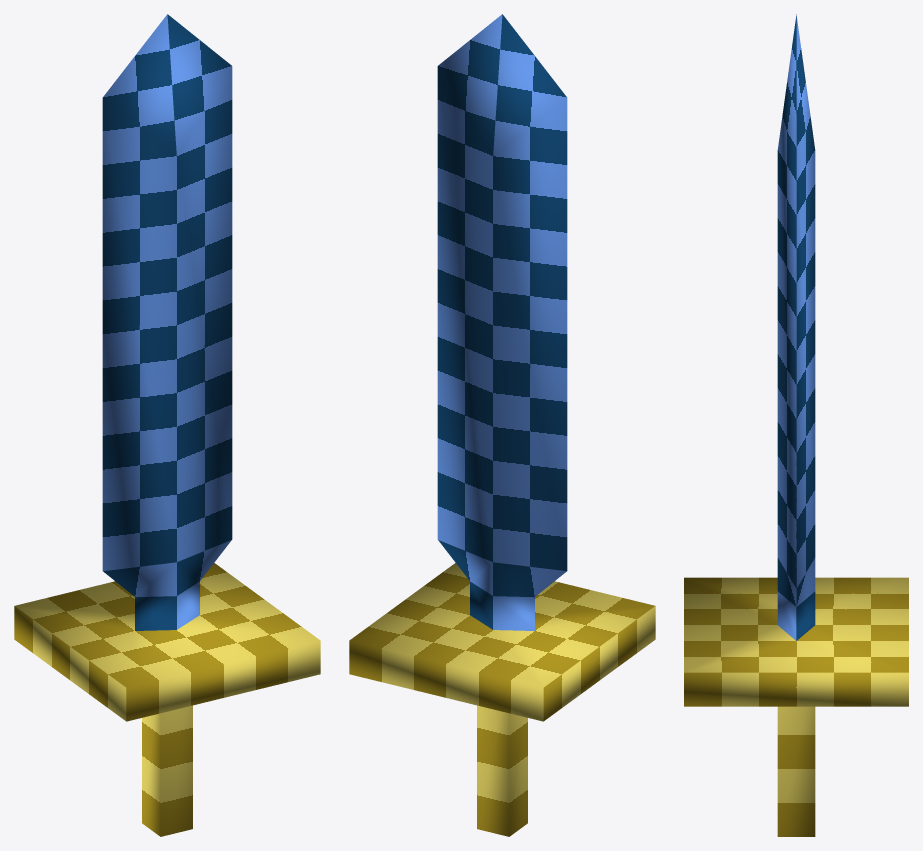
File: sword.fbx
The picture shows the model from 3 angles, left to right: view 1: azimuth 30°, elevation 25°; view 2: azimuth 150°, elevation 25°; view 3: azimuth 270°, elevation 25°; orthographic projection.
Parts seen in each view (by area): view 1: Cube; view 2: Cube; view 3: Cube.
Part boxes in pixels (x1,y1,x2,y2): Cube: [14, 14, 320, 836]; Cube: [349, 14, 655, 836]; Cube: [684, 14, 908, 836].
Size of the model in its own units: 0.375 by 1.5 by 0.375.
